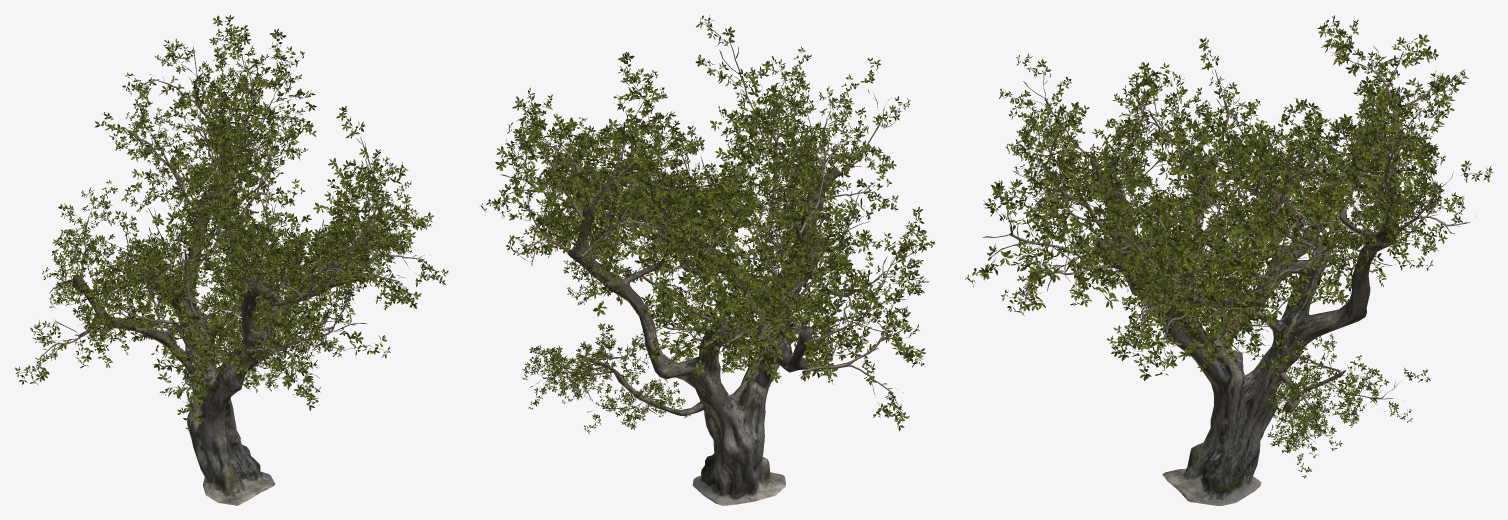
File: island_tree_01_near.gltf
The picture shows the model from 3 angles, left to right: view 1: azimuth 30°, elevation 25°; view 2: azimuth 150°, elevation 25°; view 3: azimuth 270°, elevation 25°; orthographic projection. The views are drawn at different scales.
Parts seen in each view (by area): view 1: island_tree_01_LOD0; view 2: island_tree_01_LOD0; view 3: island_tree_01_LOD0.
Boxes of the visible parts, x1=… form: island_tree_01_LOD0: x1=15, y1=15, x2=448, y2=505; island_tree_01_LOD0: x1=479, y1=15, x2=934, y2=505; island_tree_01_LOD0: x1=965, y1=15, x2=1493, y2=505.
Bounding box in the file's own units: 4.76 × 5.02 × 4.82.
3 materials, 3 textured.
